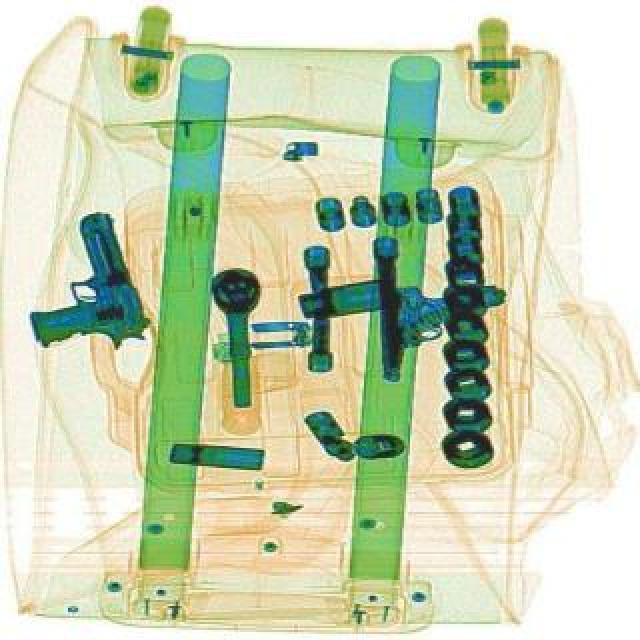gun: (0, 208, 152, 370), (378, 282, 506, 380)
